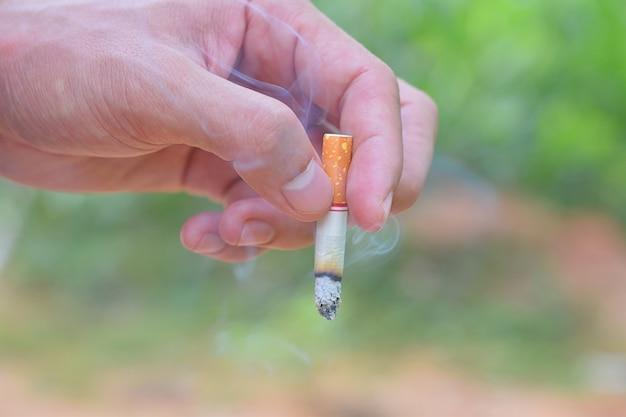cigarette: (314, 134, 351, 319)
